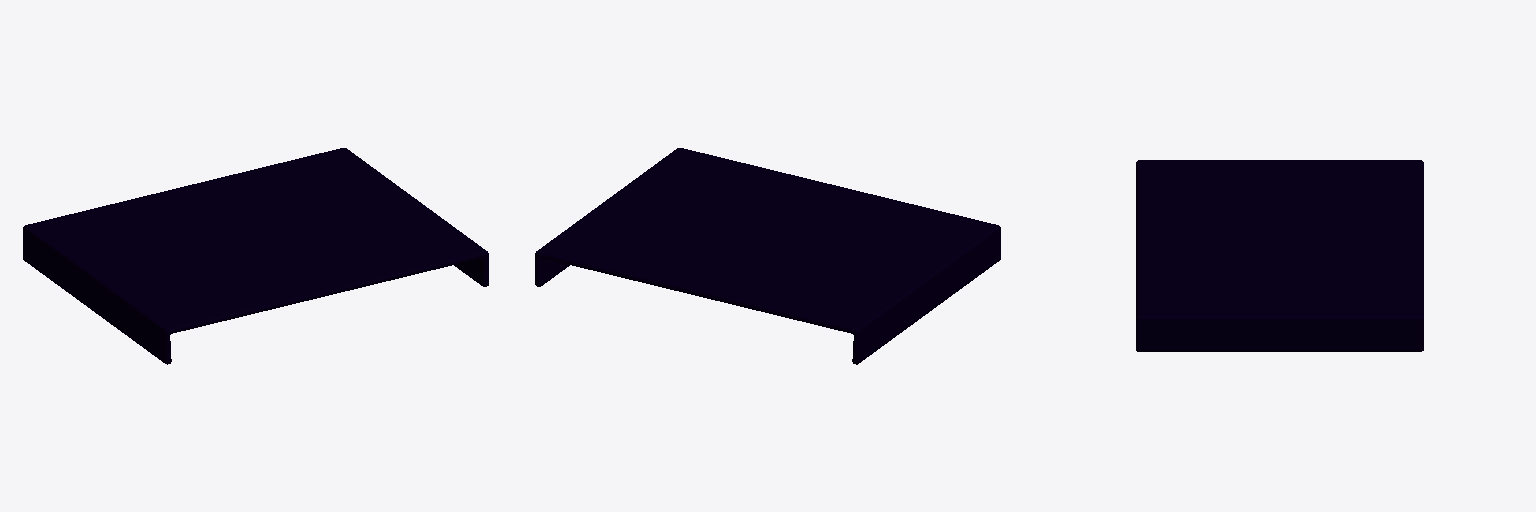
The model's file is PurpleSheet.obj.
The picture shows the model from 3 angles: view 1: azimuth 30°, elevation 25°; view 2: azimuth 150°, elevation 25°; view 3: azimuth 270°, elevation 25°; orthographic projection.
Parts seen in each view (by area): view 1: Purple_Sheet_Cube.004; view 2: Purple_Sheet_Cube.004; view 3: Purple_Sheet_Cube.004.
Boxes of the visible parts, box(x1,y1,x2,y2) form: Purple_Sheet_Cube.004: box(23, 148, 488, 364); Purple_Sheet_Cube.004: box(535, 148, 1000, 364); Purple_Sheet_Cube.004: box(1136, 160, 1423, 351).
Bounding box in the file's own units: 0.9014 × 0.0941 × 0.6945.